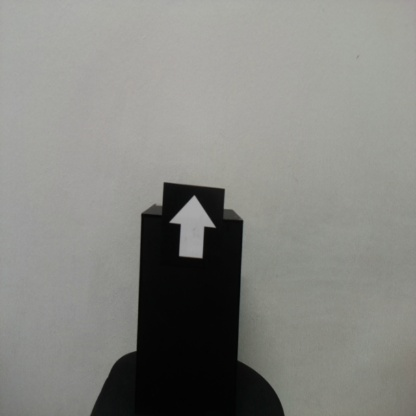id_1: (165, 190, 225, 268)
